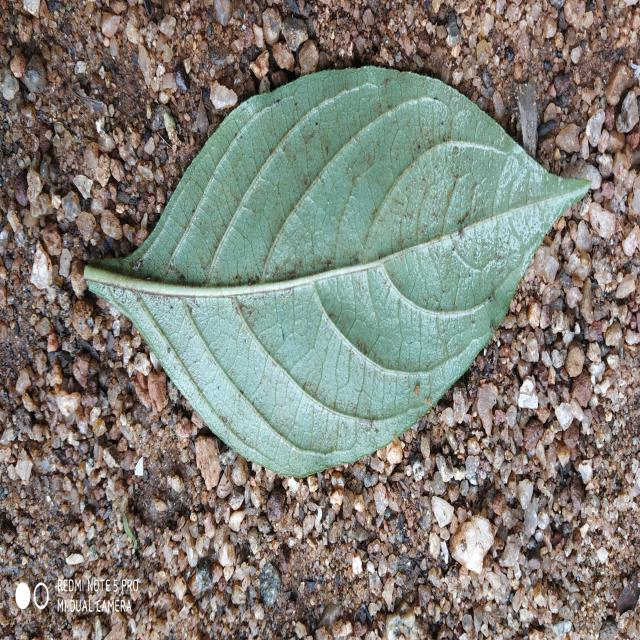ganike: (85, 67, 589, 476)
